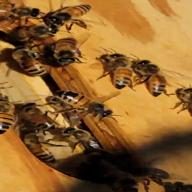Bee: (48, 90, 124, 123), (2, 45, 61, 82), (28, 7, 102, 31), (137, 48, 170, 100), (96, 50, 136, 91), (0, 90, 29, 142), (31, 40, 96, 63)
